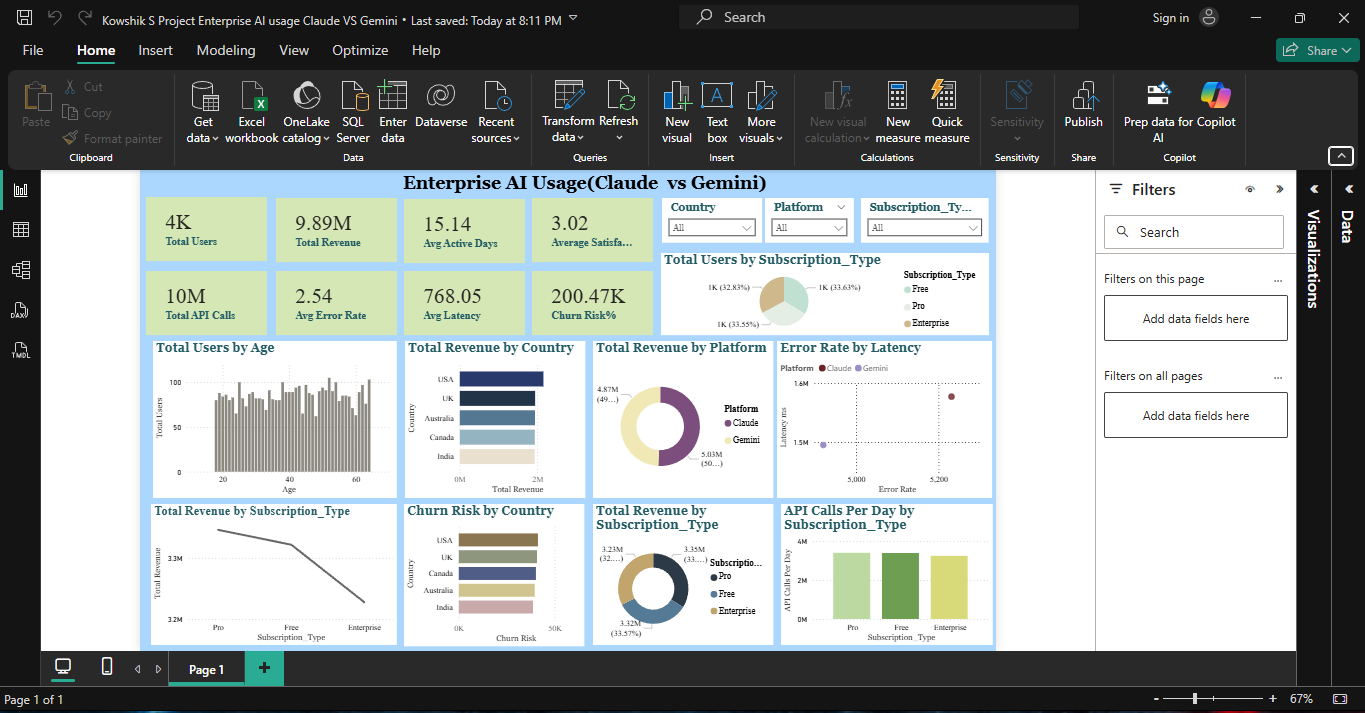

Layout of this report page (visuals, bound fields, positions):
{"tool":"powerbi","page":{"name":"Page 1","canvas":[1280,720],"ordinal":0},"visuals":[{"type":"cardVisual","fields":{"Data":["Table.Total Users"]},"box":[9.6,39.8,181.1,96.1],"z":0},{"type":"cardVisual","fields":{"Data":["Table.Average Satisfaction"]},"box":[587.3,42.5,181.1,96.1],"z":1000},{"type":"cardVisual","fields":{"Data":["Table.Total Revenue"]},"box":[203.1,42.5,181.1,96.1],"z":2000},{"type":"cardVisual","fields":{"Data":["Table.Avg Active Days"]},"box":[395.8,43.1,180.6,95.8],"z":3000},{"type":"cardVisual","fields":{"Data":["Table.Total API Calls"]},"box":[9.6,150.9,181.1,96.1],"z":4000},{"type":"cardVisual","fields":{"Data":["Sum(ai_platform_cleaned_data.Churn_Risk_%)"]},"box":[587.3,150.9,181.1,96.1],"z":5000},{"type":"cardVisual","fields":{"Data":["Table.Avg Latency"]},"box":[395.2,150.9,181.1,96.1],"z":6000},{"type":"cardVisual","fields":{"Data":["Table.Avg Error Rate"]},"box":[203.1,150.9,181.1,96.1],"z":7000},{"type":"lineChart","fields":{"Y":["Table.Total Revenue"],"Category":["ai_platform_cleaned_data.Subscription_Type"]},"box":[16.7,500,368.1,211.1],"z":8000},{"type":"donutChart","fields":{"Category":["ai_platform_cleaned_data.Platform"],"Y":["Table.Total Revenue"]},"box":[677.9,255.2,270.3,234.6],"z":9000},{"type":"donutChart","fields":{"Y":["Table.Total Revenue"],"Category":["ai_platform_cleaned_data.Subscription_Type"]},"box":[677.9,499.5,270.3,211.3],"z":10000},{"type":"clusteredBarChart","fields":{"Y":["Table.Total Revenue"],"Category":["ai_platform_cleaned_data.Country"]},"box":[396.6,256.6,270.3,234.6],"z":11000},{"type":"pieChart","fields":{"Category":["ai_platform_cleaned_data.Subscription_Type"],"Y":["Table.Total Users"]},"box":[779.4,123.5,491.3,123.5],"z":12000},{"type":"clusteredColumnChart","fields":{"Y":["Table.Total Users"],"Category":["ai_platform_cleaned_data.Age"]},"box":[19.2,255.2,365,234.6],"z":13000},{"type":"clusteredColumnChart","fields":{"Category":["ai_platform_cleaned_data.Subscription_Type"],"Y":["Sum(ai_platform_cleaned_data.API_Calls_Per_Day)"]},"box":[959.7,500,316.7,211.1],"z":14000},{"type":"clusteredBarChart","fields":{"Category":["ai_platform_cleaned_data.Country"],"Y":["Sum(ai_platform_cleaned_data.Churn_Risk_%)"]},"box":[395.2,499.5,270.3,212.7],"z":15000},{"type":"scatterChart","title":"Error Rate by Latency","fields":{"X":["Sum(ai_platform_cleaned_data.Error_Rate_%)"],"Y":["Sum(ai_platform_cleaned_data.Latency_ms)"],"Series":["ai_platform_cleaned_data.Platform"]},"box":[953.7,255.2,322.5,234.6],"z":16000},{"type":"slicer","fields":{"Values":["ai_platform_cleaned_data.Platform"]},"box":[935.9,42.5,133.1,67.2],"z":17000},{"type":"slicer","fields":{"Values":["ai_platform_cleaned_data.Country"]},"box":[780.8,42.5,149.6,67.2],"z":18000},{"type":"slicer","fields":{"Values":["ai_platform_cleaned_data.Subscription_Type"]},"box":[1079.9,42.5,190.7,67.2],"z":19000},{"type":"textbox","box":[370.8,0,588.9,51.4],"z":20000}]}

Visuals, with their boxes on the page's 1280x720 design canvas (x1, y1, x2, y2). These are canvas units, not pixel positions in the 1365x713 screenshot, which may show the page scaled, cropped or inside an application window:
cardVisual - Table.Total Users: bbox=[10, 40, 191, 136]
cardVisual - Table.Average Satisfaction: bbox=[587, 42, 768, 139]
cardVisual - Table.Total Revenue: bbox=[203, 42, 384, 139]
cardVisual - Table.Avg Active Days: bbox=[396, 43, 576, 139]
cardVisual - Table.Total API Calls: bbox=[10, 151, 191, 247]
cardVisual - Sum(ai_platform_cleaned_data.Churn_Risk_%): bbox=[587, 151, 768, 247]
cardVisual - Table.Avg Latency: bbox=[395, 151, 576, 247]
cardVisual - Table.Avg Error Rate: bbox=[203, 151, 384, 247]
lineChart - Table.Total Revenue x ai_platform_cleaned_data.Subscription_Type: bbox=[17, 500, 385, 711]
donutChart - ai_platform_cleaned_data.Platform x Table.Total Revenue: bbox=[678, 255, 948, 490]
donutChart - Table.Total Revenue x ai_platform_cleaned_data.Subscription_Type: bbox=[678, 500, 948, 711]
clusteredBarChart - Table.Total Revenue x ai_platform_cleaned_data.Country: bbox=[397, 257, 667, 491]
pieChart - ai_platform_cleaned_data.Subscription_Type x Table.Total Users: bbox=[779, 124, 1271, 247]
clusteredColumnChart - Table.Total Users x ai_platform_cleaned_data.Age: bbox=[19, 255, 384, 490]
clusteredColumnChart - ai_platform_cleaned_data.Subscription_Type x Sum(ai_platform_cleaned_data.API_Calls_Per_Day): bbox=[960, 500, 1276, 711]
clusteredBarChart - ai_platform_cleaned_data.Country x Sum(ai_platform_cleaned_data.Churn_Risk_%): bbox=[395, 500, 666, 712]
"Error Rate by Latency" scatterChart: bbox=[954, 255, 1276, 490]
slicer - ai_platform_cleaned_data.Platform: bbox=[936, 42, 1069, 110]
slicer - ai_platform_cleaned_data.Country: bbox=[781, 42, 930, 110]
slicer - ai_platform_cleaned_data.Subscription_Type: bbox=[1080, 42, 1271, 110]
textbox: bbox=[371, 0, 960, 51]
